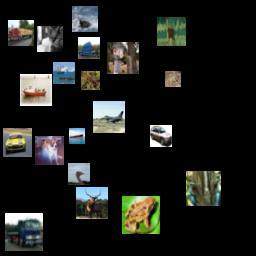airplane: (93, 101, 125, 133)
automobile: (3, 128, 32, 157), (150, 125, 172, 147)
bird: (186, 171, 221, 206), (107, 42, 139, 74), (68, 163, 90, 185), (165, 71, 181, 87)
cat: (37, 26, 63, 52)
deer: (76, 187, 108, 219), (157, 17, 186, 46), (72, 6, 98, 32)
dog: (35, 136, 64, 165)
frog: (122, 196, 160, 234), (81, 71, 100, 90)
ship: (20, 74, 52, 106), (53, 62, 75, 84), (69, 128, 85, 144)
truck: (5, 213, 43, 251), (8, 20, 34, 46), (78, 37, 100, 59)
